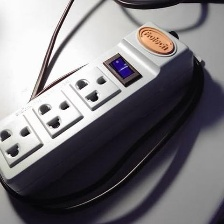three_eye_plug: (0, 18, 199, 201)
